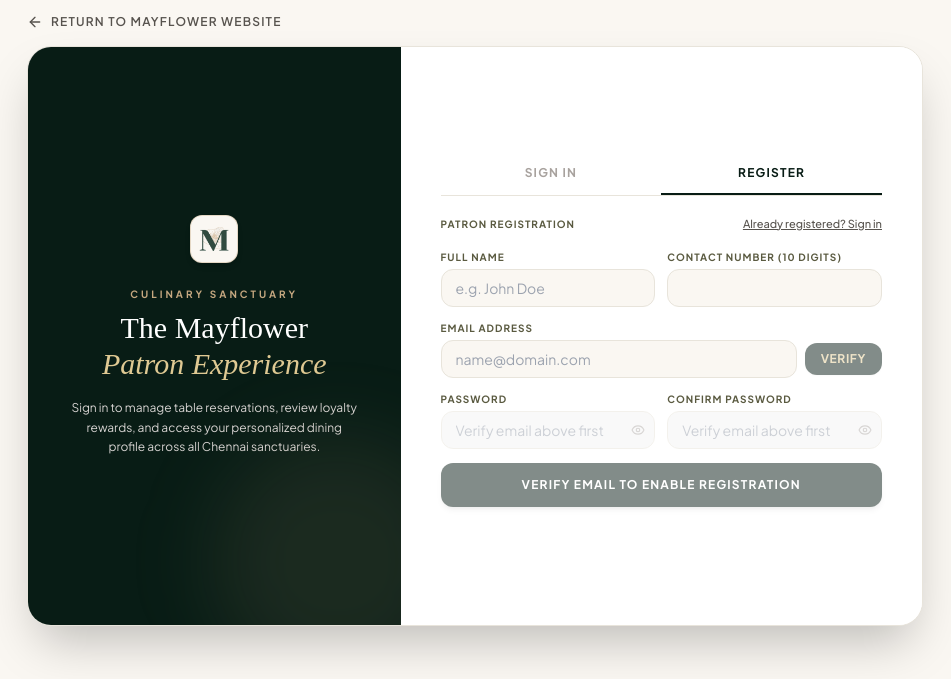
Test: LoginPage & Duplicate Email Registration Check › shows already registered message and sign in option when email is already in database
Expected: the text "Patron Registration" is shown, top-left (440, 216), bottom-right (575, 232)
Note: Enter email of existing user
Type "patron@example.com" into the field with placeholder "name@domain.com" at (619, 359), box top-left (440, 340), bottom-right (797, 378)
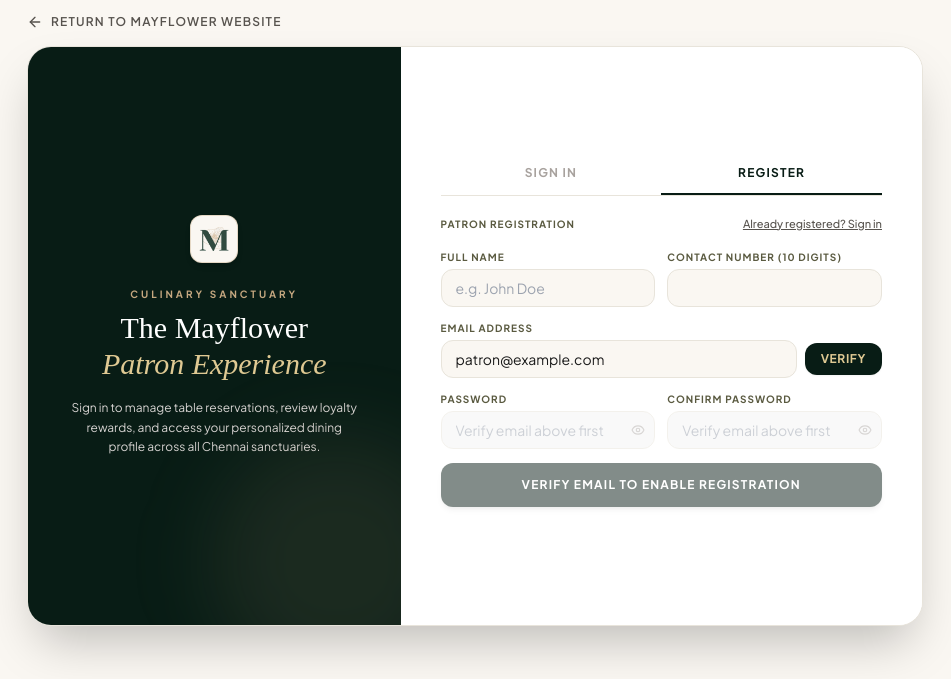
Note: Click Verify
Click the button "Verify" at (843, 359), box top-left (805, 343), bottom-right (882, 375)
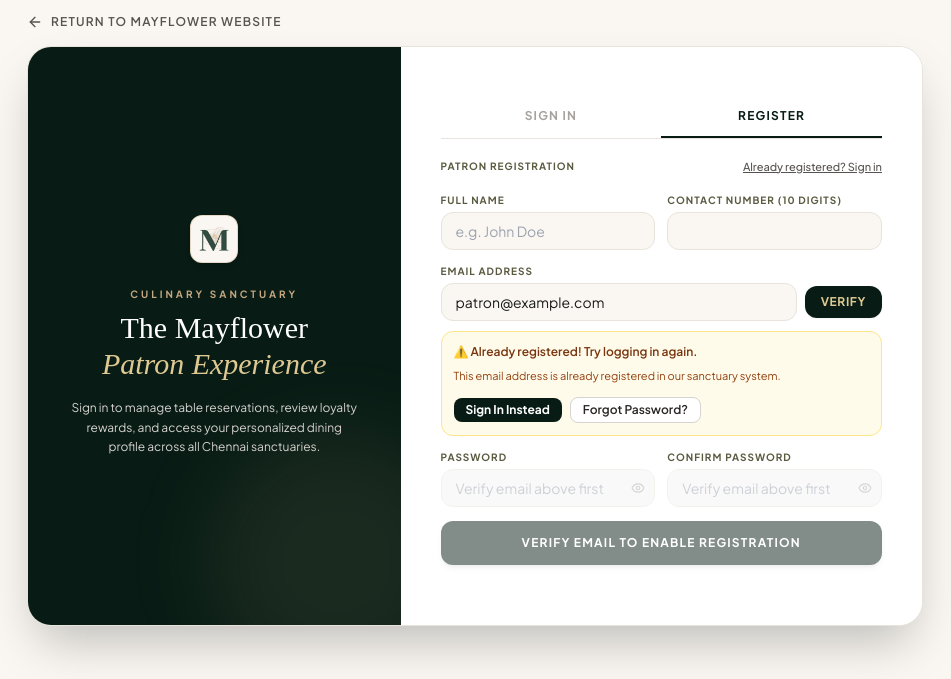
Expected: the text "⚠️ Already registered! Try logging in again." is shown, top-left (454, 344), bottom-right (697, 360)
Expected: the button "Sign In Instead" is shown, top-left (454, 398), bottom-right (562, 422)
